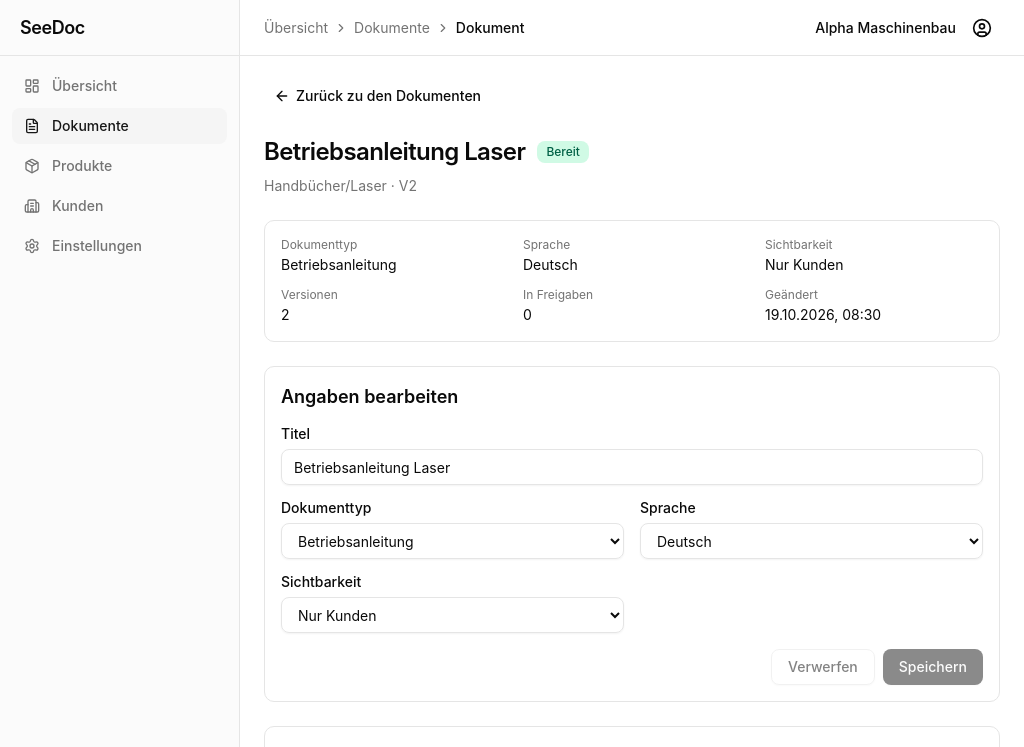
Test case: DocumentDetailPage – details form › discards what was changed
The width and height of the screenshot is (1024, 747).
Select "Französisch" in the dropdown labelled "Sprache" at {"x": 812, "y": 541}, box [640,523,983,559]
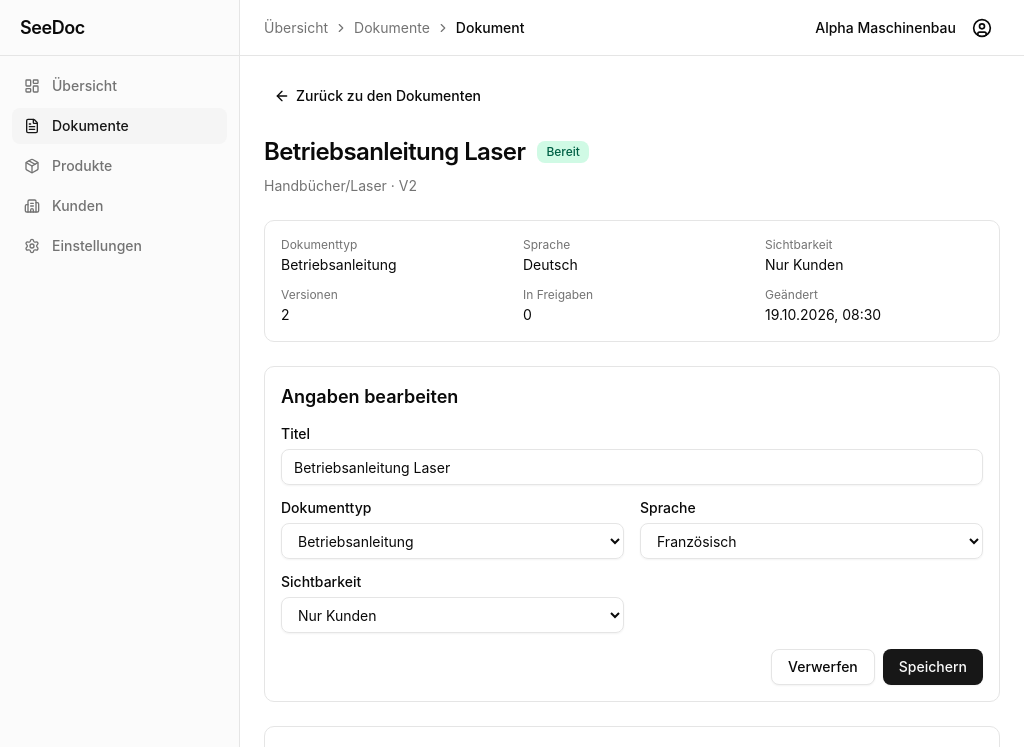
Replace the text in the field labelled "Titel" with "Etwas anderes" at {"x": 632, "y": 467}, box [281,449,983,485]
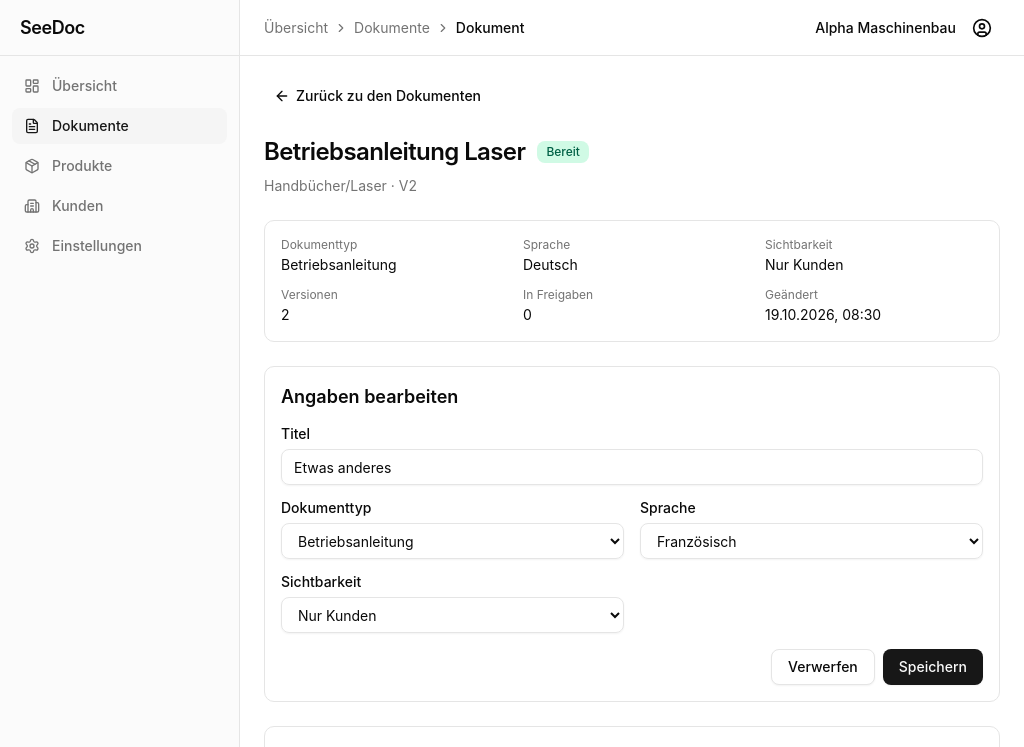
Click the button "Verwerfen" at {"x": 823, "y": 667}, box [771,649,875,685]
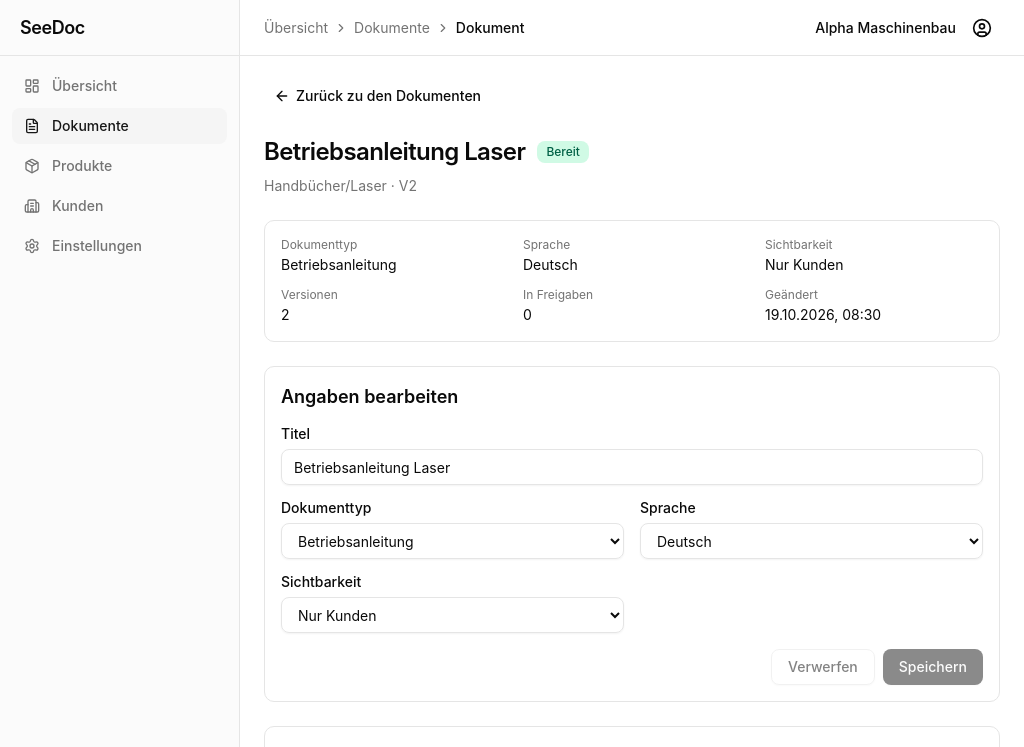
Check: the field labelled "Titel" holds "Betriebsanleitung Laser", box [281,449,983,485]
Check: the button "Verwerfen" is disabled, box [771,649,875,685]
